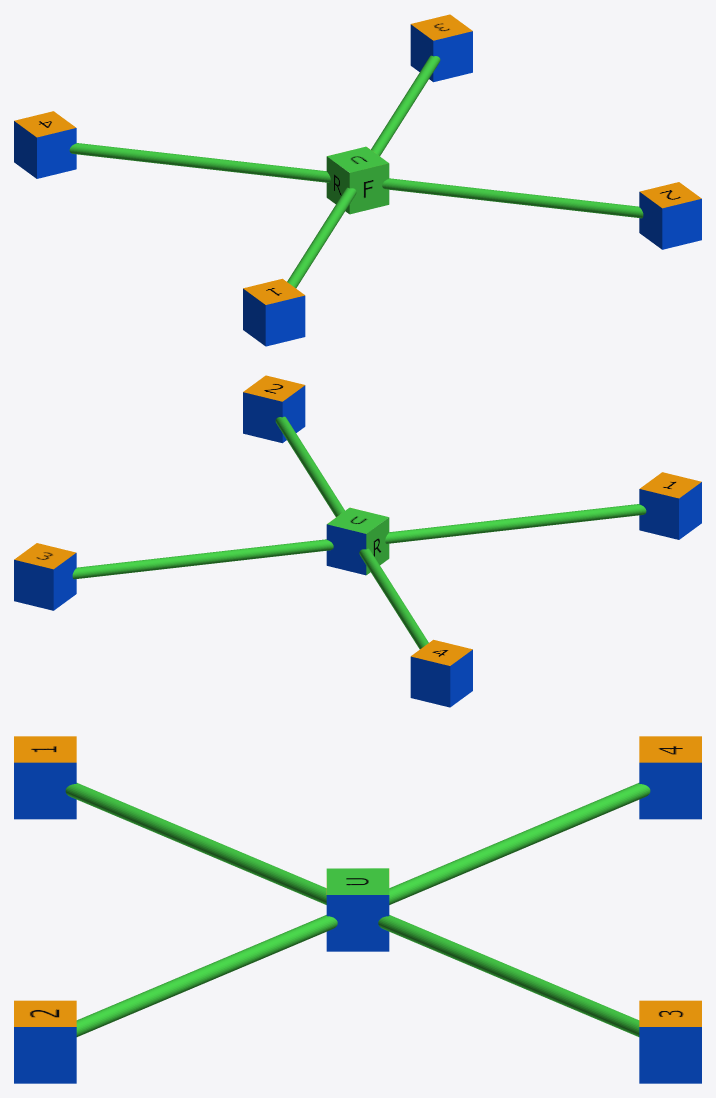
Rendered from drone.obj.
3 renders of one model, top to bottom at view 1: azimuth 30°, elevation 25°; view 2: azimuth 150°, elevation 25°; view 3: azimuth 270°, elevation 25°, orthographic. The views are drawn at different scales.
Parts seen in each view (by area): view 1: drone; view 2: drone; view 3: drone.
Part boxes in pixels (bbox=[...]): drone: bbox=[14, 14, 701, 346]; drone: bbox=[14, 375, 701, 707]; drone: bbox=[14, 736, 701, 1083].
Size of the model in its own units: 2.2 by 0.2 by 2.2.
1 material, 1 textured.
